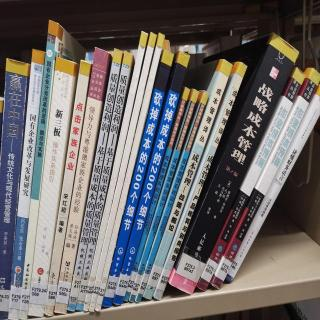book-spine: (166, 32, 303, 296), (192, 67, 308, 293), (209, 67, 320, 290), (152, 62, 248, 302), (141, 59, 233, 300), (218, 86, 320, 287), (111, 51, 190, 306), (87, 33, 158, 314), (94, 31, 165, 312), (100, 49, 175, 308), (83, 31, 148, 312), (49, 44, 111, 315), (133, 90, 210, 304), (66, 48, 124, 312), (75, 51, 133, 312), (129, 90, 200, 303), (123, 86, 190, 302), (22, 56, 77, 317), (39, 58, 93, 316), (17, 19, 60, 320), (7, 50, 44, 320), (0, 57, 30, 320)
